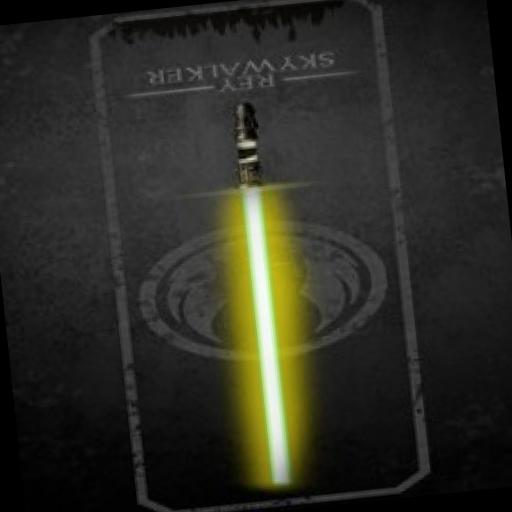lightsaber: (220, 97, 306, 489)
